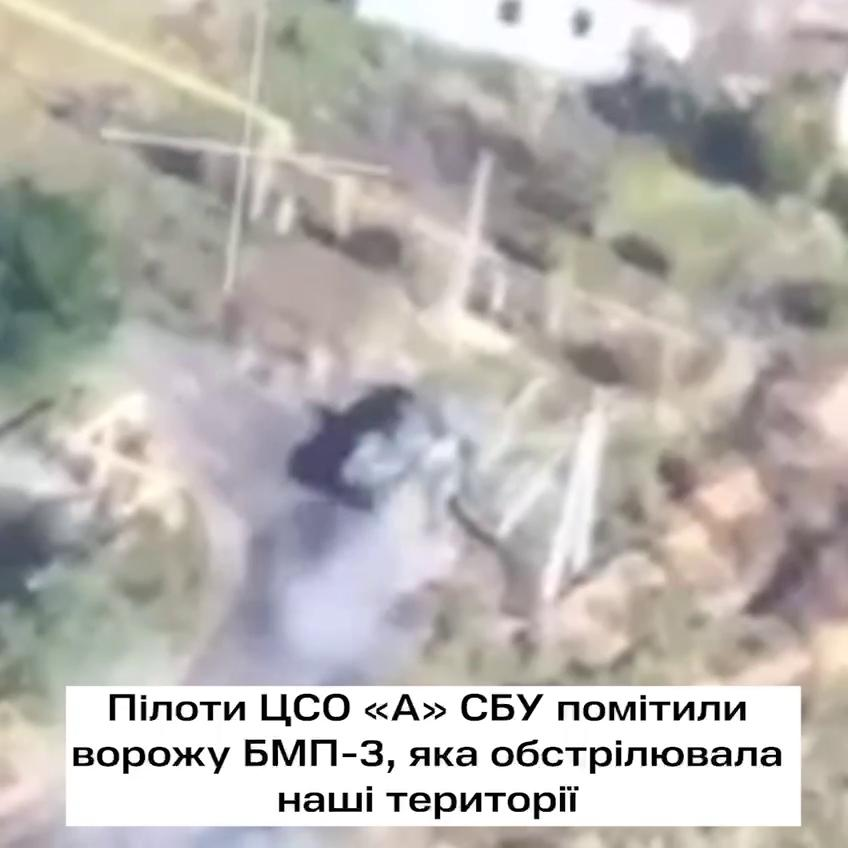tank: (332, 381, 492, 535)
